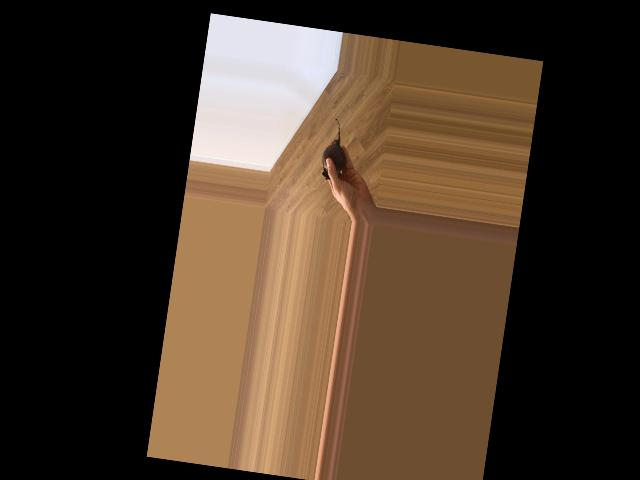beet: (319, 116, 350, 181)
